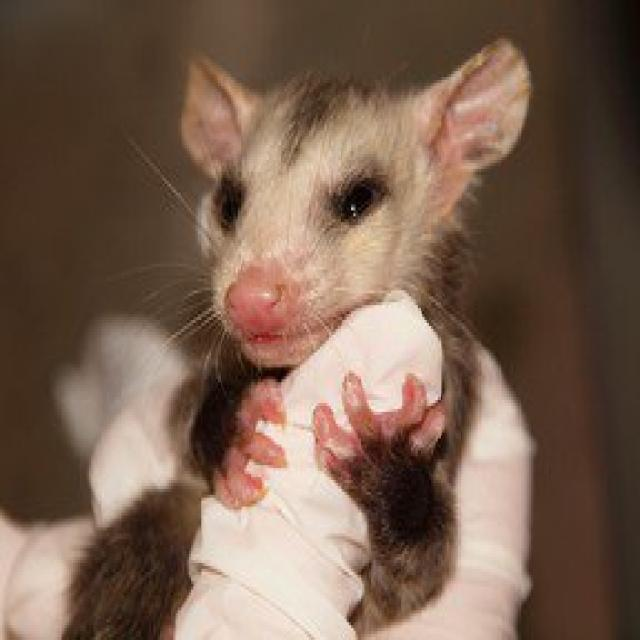Possum: (89, 26, 523, 633)
